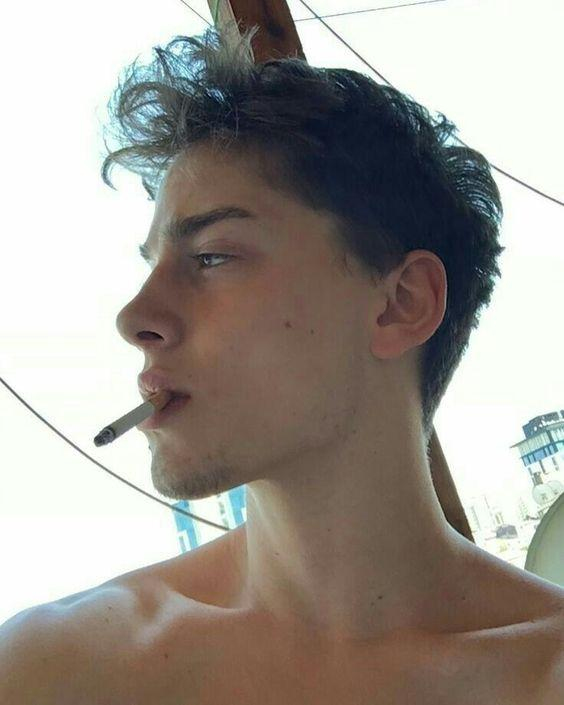cigarette: (94, 392, 174, 447)
